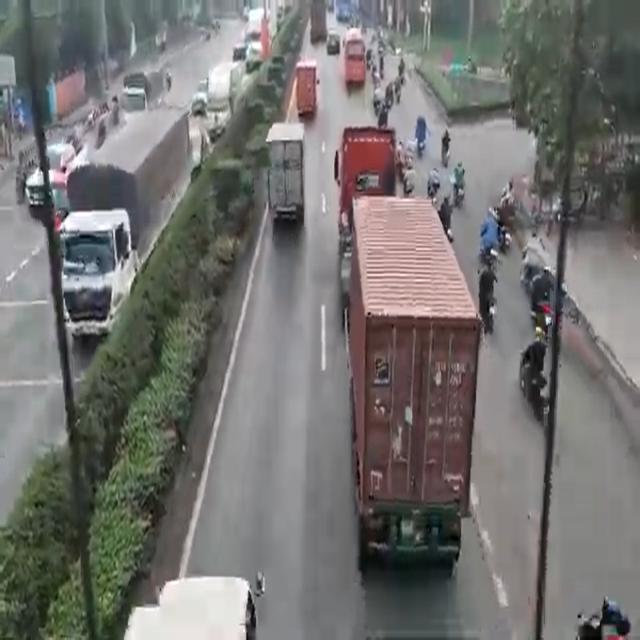motor: (520, 333, 552, 419), (482, 256, 498, 334), (478, 200, 500, 255), (532, 271, 548, 332), (412, 101, 427, 162), (503, 172, 515, 235), (455, 153, 466, 216)
truck: (336, 121, 470, 570), (67, 96, 192, 332), (264, 121, 308, 227), (295, 62, 316, 120), (344, 34, 365, 92)
